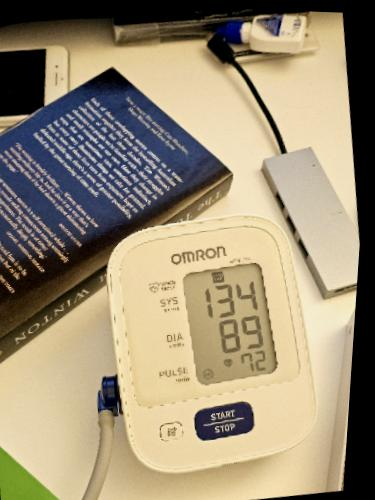bpm: (178, 260, 280, 387)
